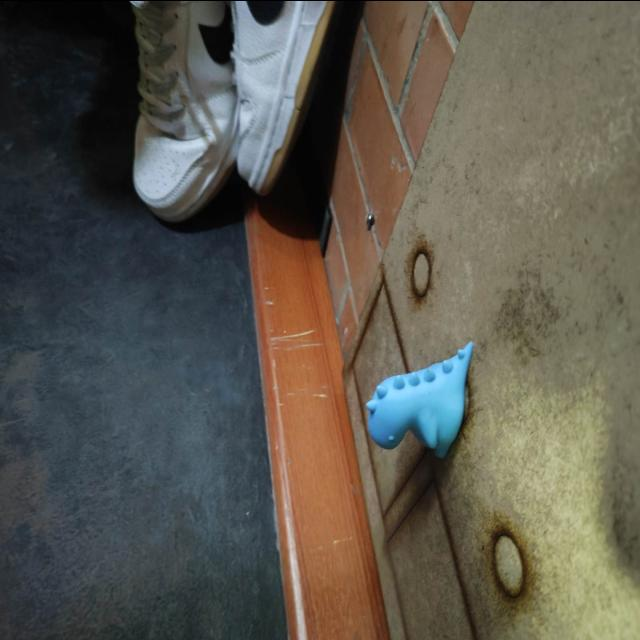DINO: (358, 328, 476, 472)
